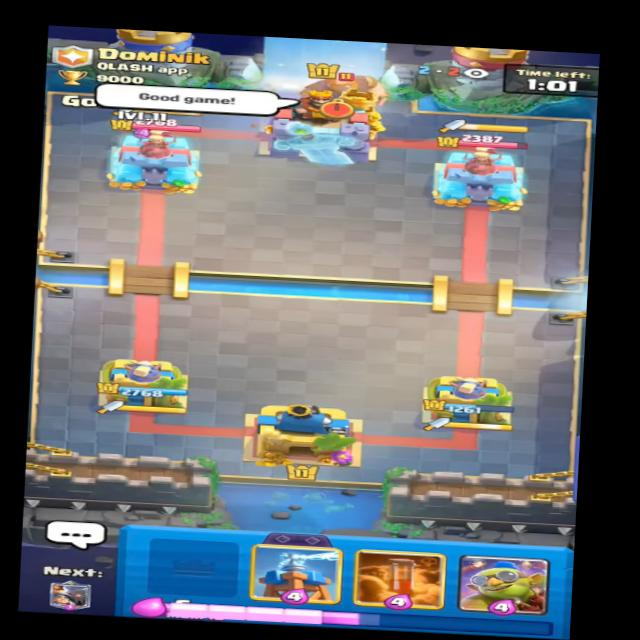giant: (289, 65, 399, 116)
